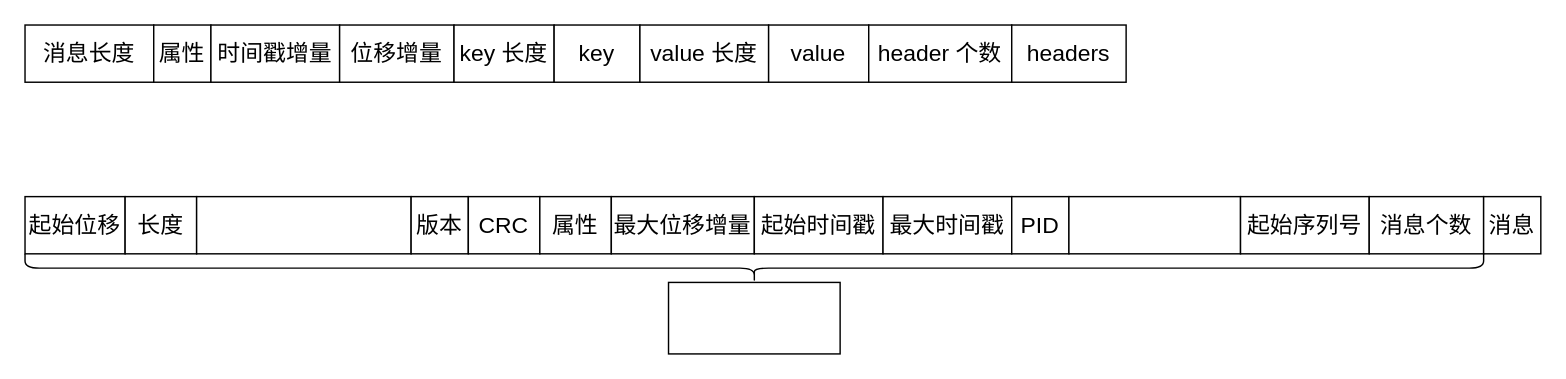
Some shapes in this 1566 by 379 pixel diagram are drawn without their labels. The centre of each missing label's shape, as x and y in pixels:
"batch" belongs at point (753, 317).
"producer epoch" belongs at point (1154, 224).
"分区 Leader 版本号" belongs at point (303, 224).
